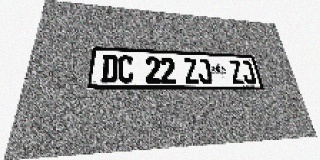2: (145, 56, 161, 83), (160, 57, 176, 84)
C: (118, 55, 134, 83)
D: (100, 54, 118, 83)
J: (196, 59, 213, 84), (239, 61, 257, 84)
Z: (183, 58, 199, 84), (228, 60, 245, 84)
